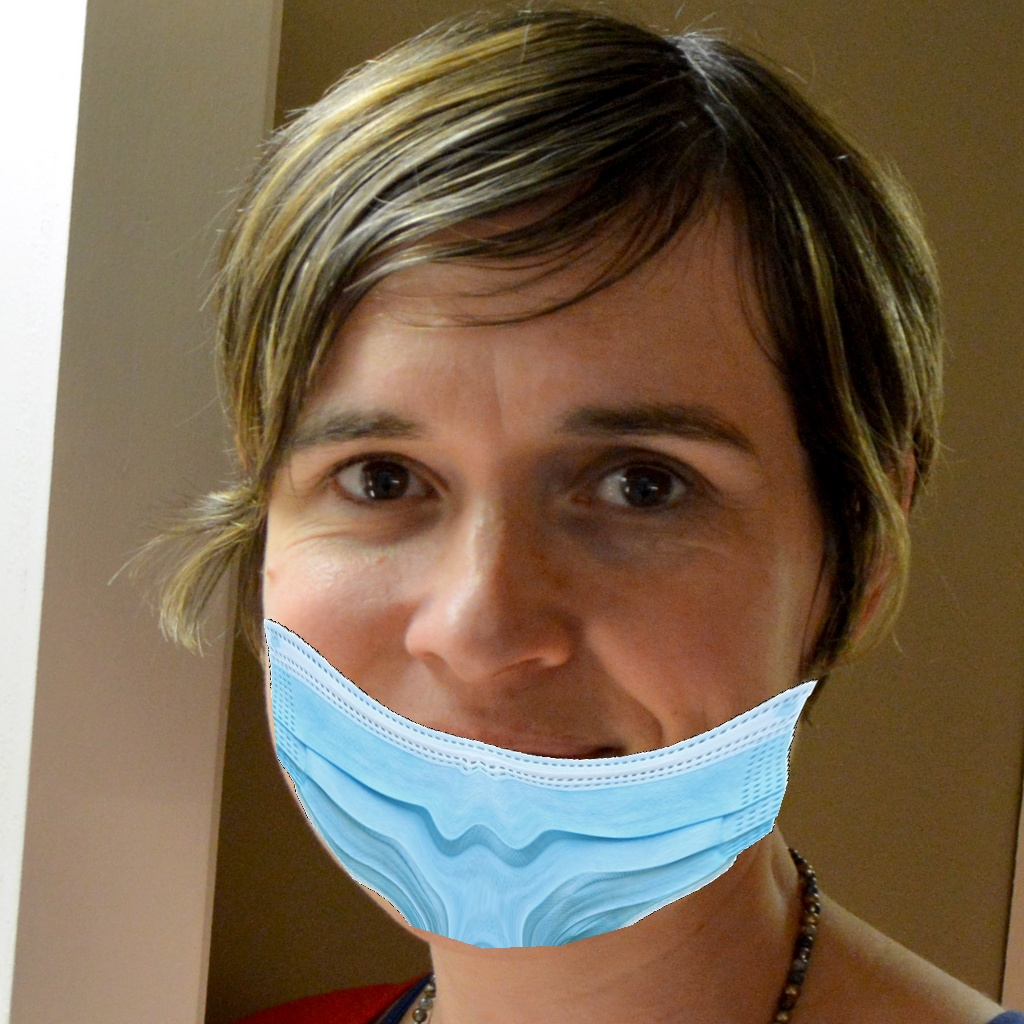mask_weared_incorrect: (228, 399, 849, 967)
